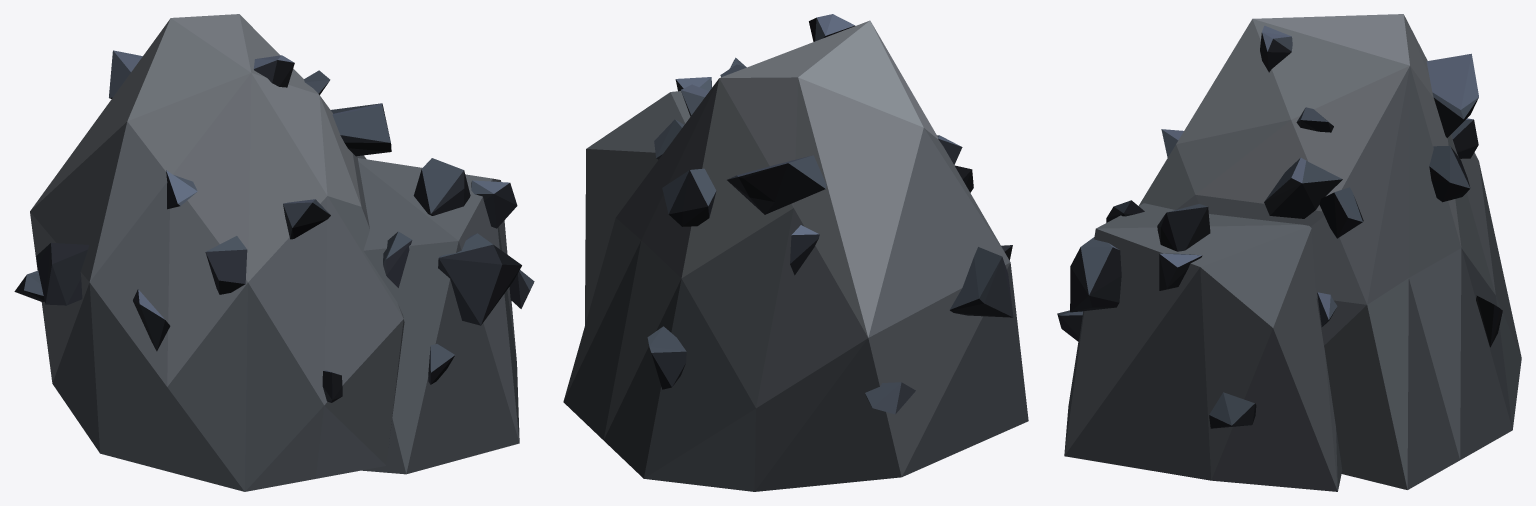
The model's file is Rocks_Ore_Coal.glb.
3 renders of one model, left to right at view 1: azimuth 30°, elevation 25°; view 2: azimuth 150°, elevation 25°; view 3: azimuth 270°, elevation 25°, orthographic. The views are drawn at different scales.
Parts seen in each view (by area): view 1: Rocks_Ore_Coal; view 2: Rocks_Ore_Coal; view 3: Rocks_Ore_Coal.
Boxes of the visible parts, x1,y1,x2,y2 form: Rocks_Ore_Coal: (14,14,534,491); Rocks_Ore_Coal: (563,14,1028,491); Rocks_Ore_Coal: (1057,14,1521,491).
Bounding box in the file's own units: 1.4 × 1.1 × 1.25.
